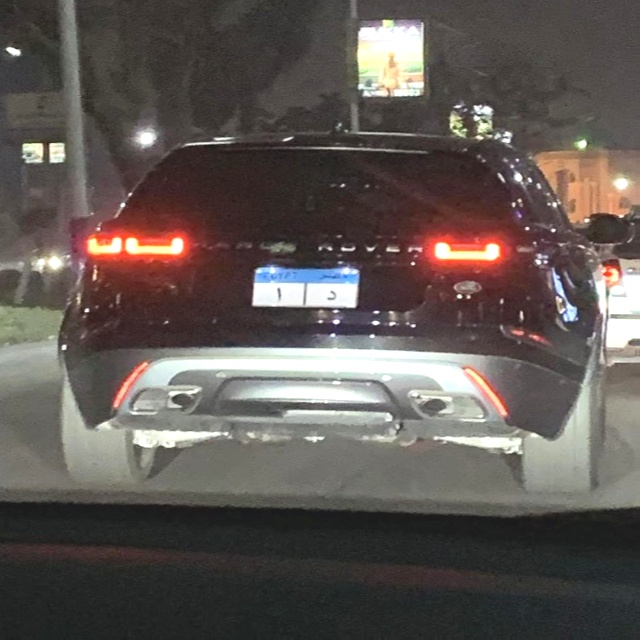License Plate: (251, 266, 363, 312)
